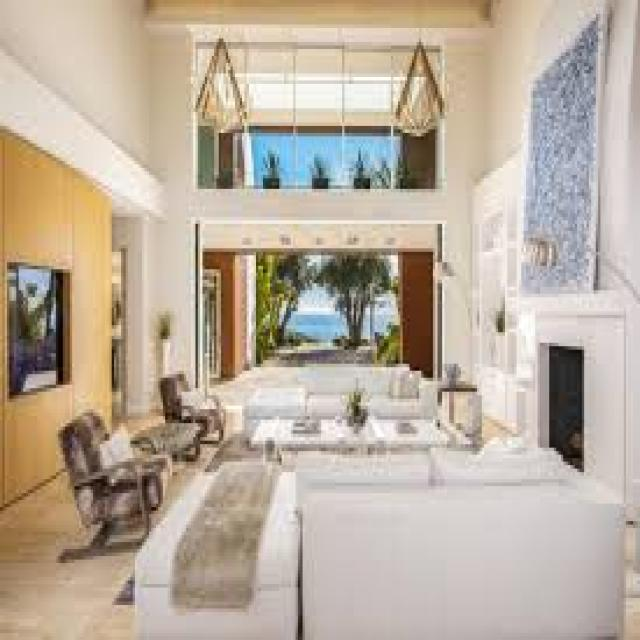Chair: (60, 408, 170, 556), (164, 363, 235, 453)
Sofa: (139, 440, 632, 636), (228, 355, 440, 420)
Table: (255, 406, 466, 457)
